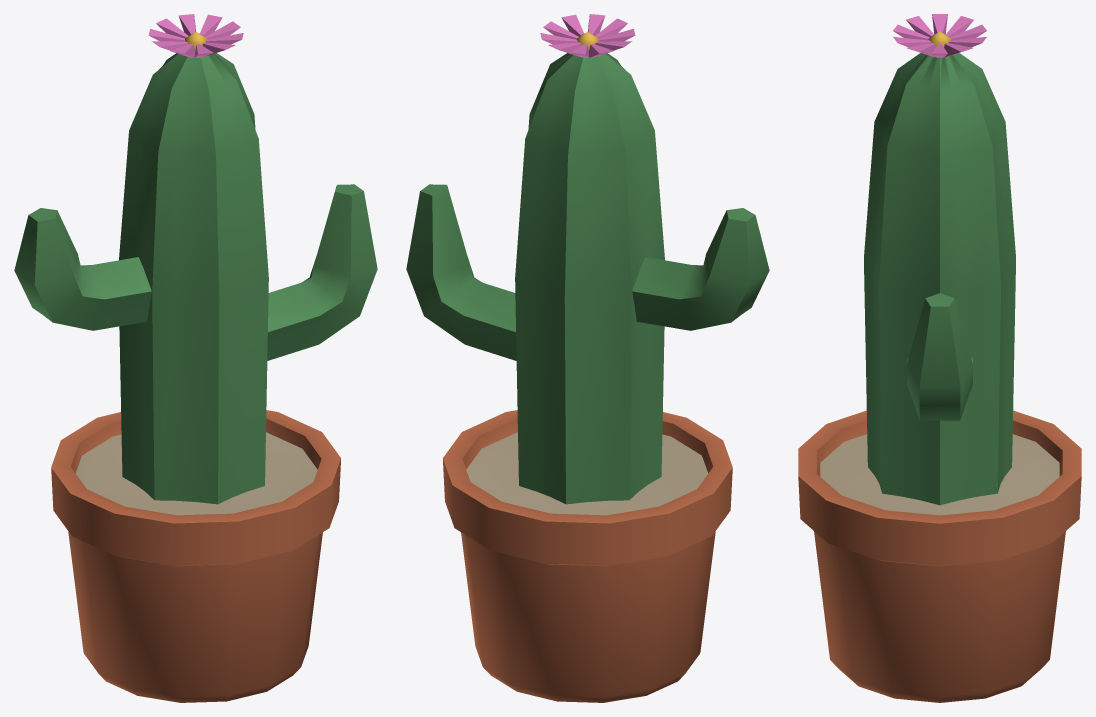
Rendered from potCactus.glb.
3 renders of one model, left to right at view 1: azimuth 30°, elevation 25°; view 2: azimuth 150°, elevation 25°; view 3: azimuth 270°, elevation 25°, orthographic.
Parts seen in each view (by area): view 1: potCactus; view 2: potCactus; view 3: potCactus.
Boxes of the visible parts, left/top/right/bottom form: potCactus: left=14, top=14, right=377, bottom=702; potCactus: left=406, top=14, right=769, bottom=702; potCactus: left=798, top=14, right=1081, bottom=702.
Size of the model in its own units: 0.1825 by 0.319 by 0.1306.
